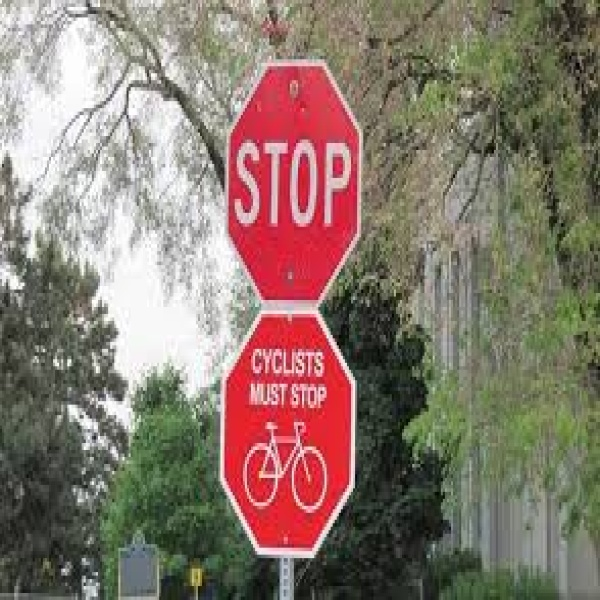stop: (203, 315, 365, 552), (224, 57, 366, 304)
